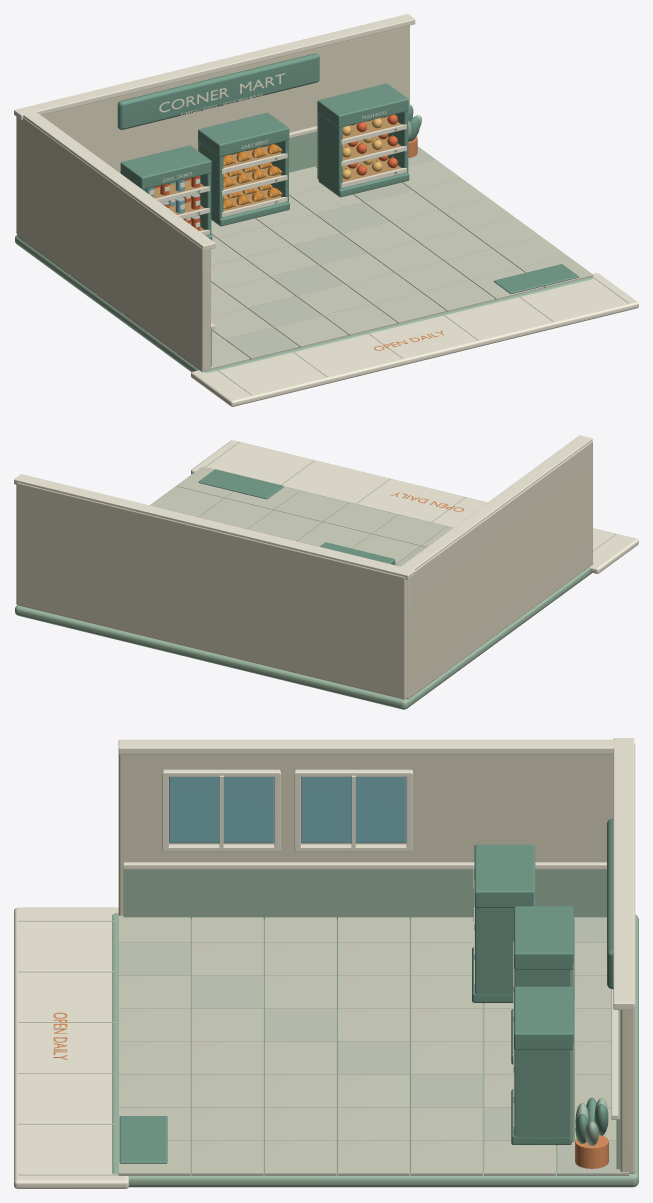
Rendered from spacious-v1.glb.
The picture shows the model from 3 angles, top to bottom: view 1: azimuth 30°, elevation 25°; view 2: azimuth 150°, elevation 25°; view 3: azimuth 270°, elevation 25°; orthographic projection. The views are drawn at different scales.
Parts seen in each view (by area): view 1: Wall left, Pavement, Wall back, Store sign board, Back top, Foundation, Left top, bread.header, fruit.header, drinks.header, fruit.side.-1, floor.tile.5.6 (+46 smaller); view 2: Wall back, Wall left, Pavement, Foundation, Back top, Left top, floor.tile.4.6, floor.tile.5.6, floor.tile.3.6, floor.tile.7.5, floor.tile.5.5, floor.tile.6.5 (+6 smaller); view 3: Wall left, Pavement, Wall left lower, Foundation, Left top, Window 0.2, Window 1.52, Back top, fruit.side.1, drinks.header, bread.header, fruit.header (+65 smaller).
Part boxes in pixels (<box>): Wall left: <box>18,117,210,369</box>; Pavement: <box>191,273,638,406</box>; Wall back: <box>16,25,409,234</box>; Store sign board: <box>117,53,319,129</box>; Back top: <box>14,14,415,119</box>; Foundation: <box>15,235,592,372</box>; Left top: <box>19,108,215,250</box>; bread.header: <box>198,112,289,156</box>; fruit.header: <box>317,83,408,127</box>; drinks.header: <box>120,145,211,189</box>; fruit.side.-1: <box>319,113,342,190</box>; floor.tile.5.6: <box>421,279,495,311</box>; Wall back: <box>16,482,407,699</box>; Wall left: <box>407,441,592,696</box>; Pavement: <box>191,440,638,573</box>; Foundation: <box>15,468,591,709</box>; Back top: <box>14,474,415,580</box>; Left top: <box>396,435,592,572</box>; floor.tile.4.6: <box>323,502,397,533</box>; floor.tile.5.6: <box>274,490,348,522</box>; floor.tile.3.6: <box>372,514,446,545</box>; floor.tile.7.5: <box>150,486,223,517</box>; floor.tile.5.5: <box>248,510,321,540</box>; floor.tile.6.5: <box>199,498,272,528</box>; Wall left: <box>118,754,613,915</box>; Pavement: <box>14,907,128,1188</box>; Wall left lower: <box>123,869,606,919</box>; Foundation: <box>112,913,638,1187</box>; Left top: <box>118,739,627,754</box>; Window 0.2: <box>301,777,406,842</box>; Window 1.52: <box>169,777,274,842</box>; Back top: <box>613,738,634,1009</box>; fruit.side.1: <box>514,1050,569,1136</box>; drinks.header: <box>474,844,534,907</box>; bread.header: <box>514,906,573,969</box>; fruit.header: <box>514,986,573,1049</box>.
Bounding box in the file's own units: 8.45 × 2.68 × 8.12.
